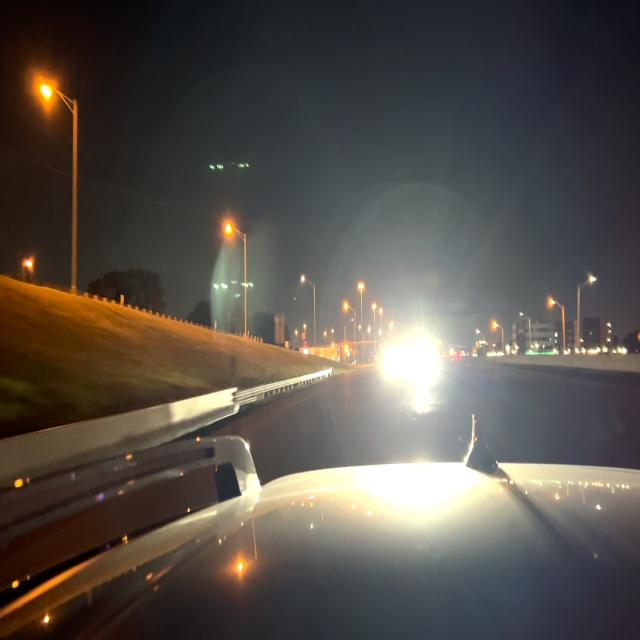back-of-sign: (275, 313, 285, 344)
